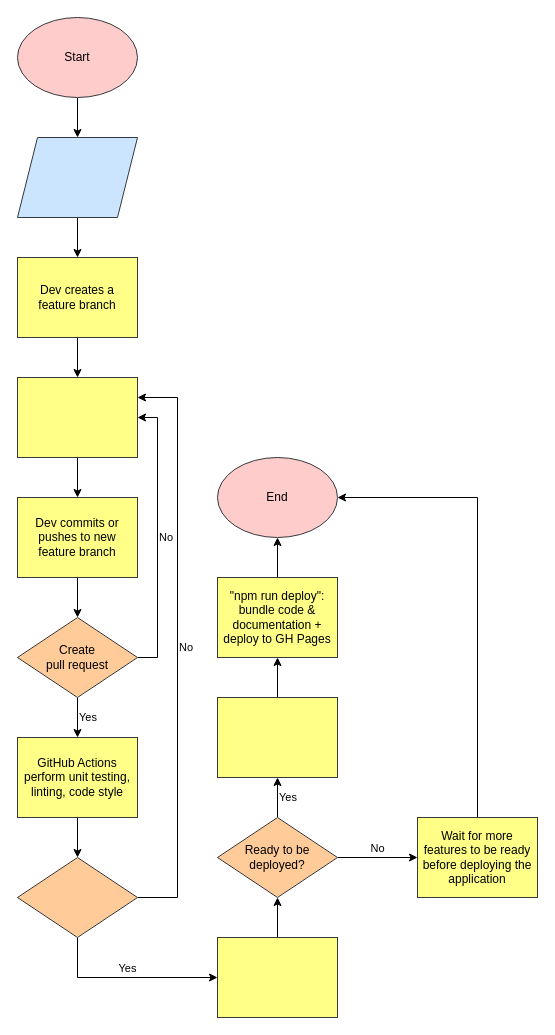
This 555x1035 diagram has some shape labels left out. Here are the shapes that lost their labels. From the top down, the centre of each, then its label:
At point 77,177: "Dev checks out repo".
At point 77,417: "Dev works on new feature".
At point 277,737: "Admin does a final review of the code in main".
At point 77,897: "Tests passed, code reviewed".
At point 277,977: "Merge feature into main branch, and do further testing".
